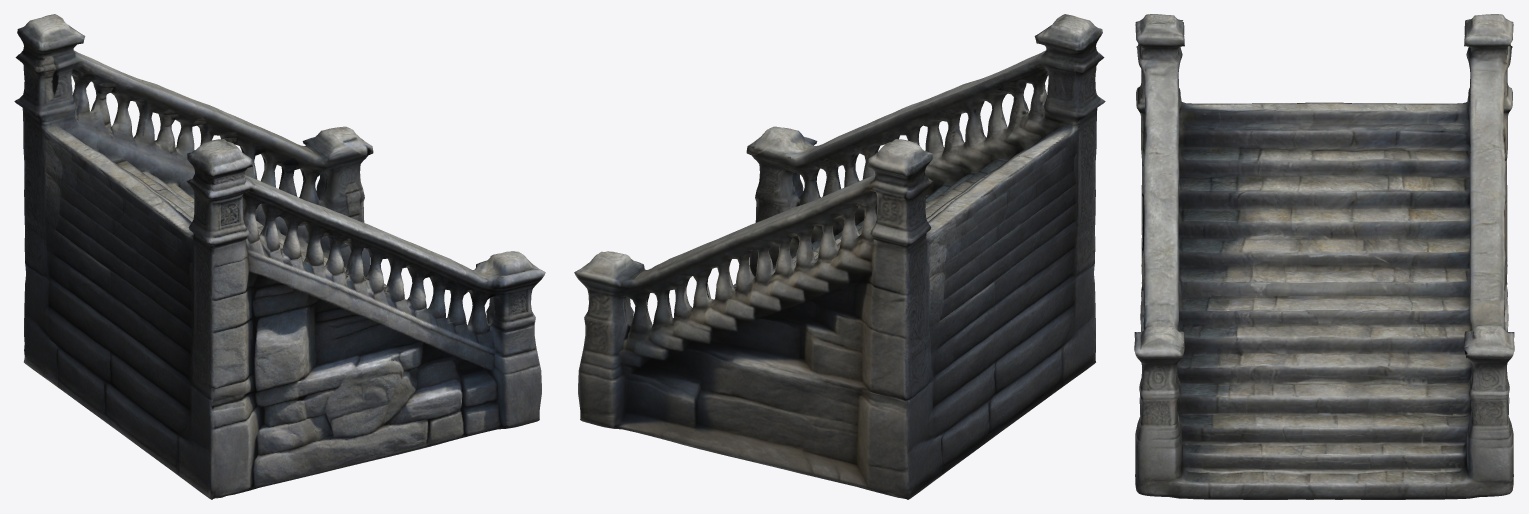
The model's file is Escalera.glb.
3 views of the same model, side by side, from view 1: azimuth 30°, elevation 25°; view 2: azimuth 150°, elevation 25°; view 3: azimuth 270°, elevation 25° (orthographic). The views are drawn at different scales.
Bounding box in the file's own units: 2 × 1.92 × 1.99.
1 material, 1 textured.
